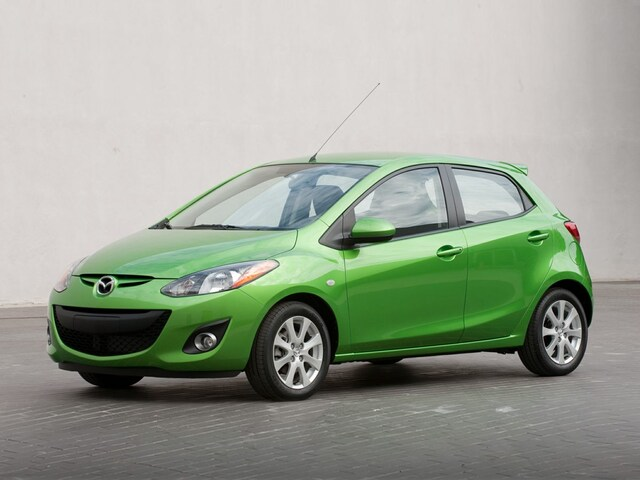Mazda3 Hatchback: (39, 145, 603, 406)
